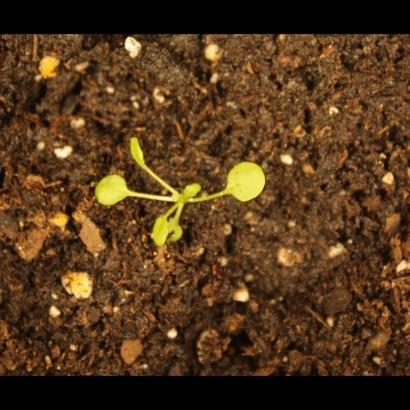leaf: (216, 154, 275, 210), (91, 170, 131, 214), (122, 133, 156, 175), (150, 211, 173, 249), (167, 216, 191, 250), (177, 176, 202, 203)
